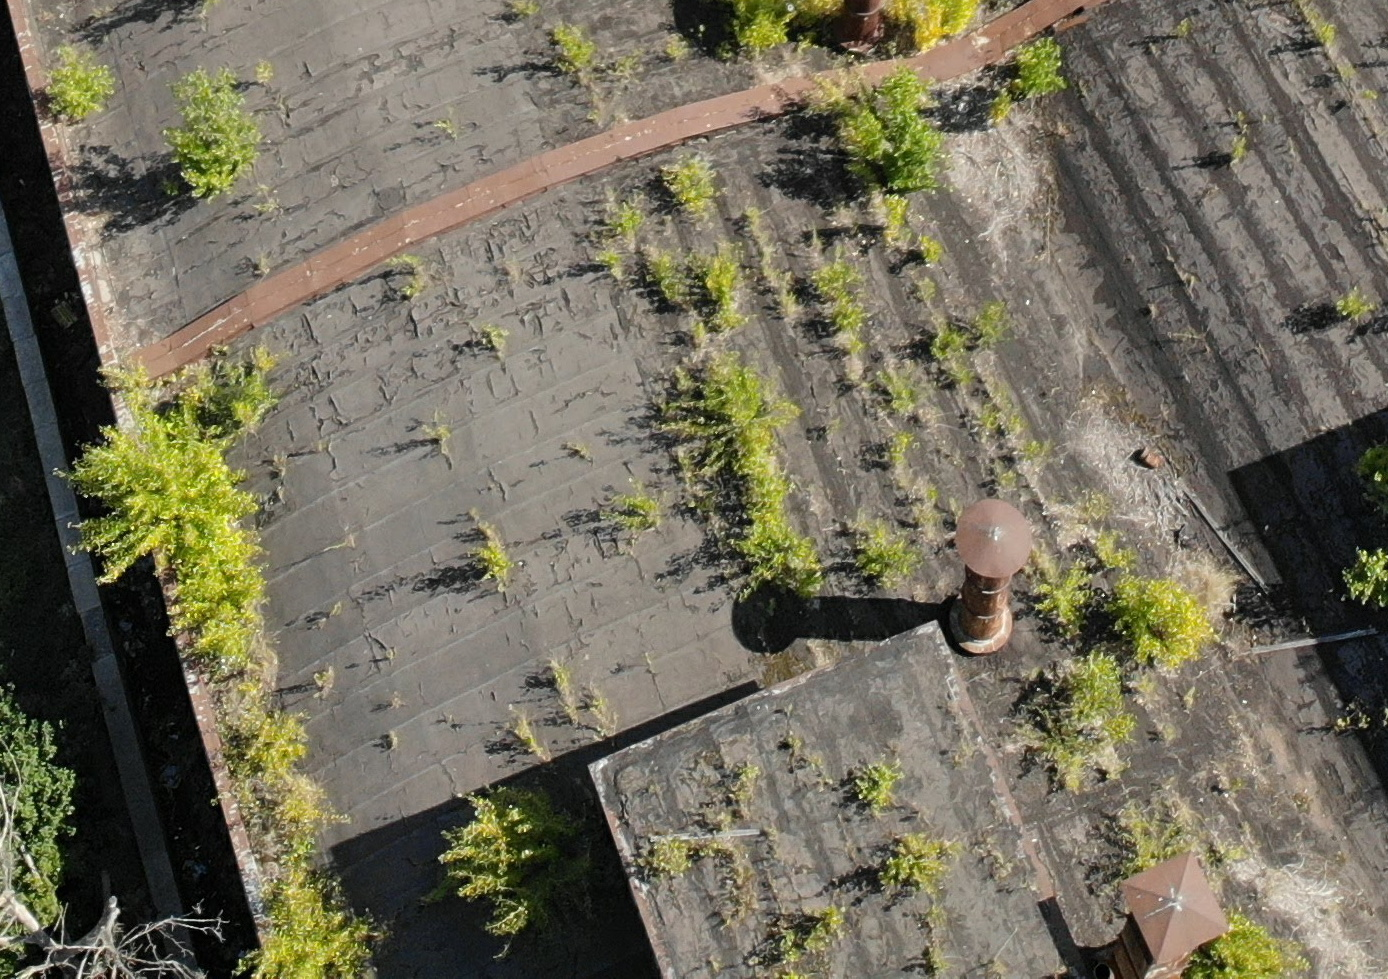tree: (79, 381, 292, 660), (818, 79, 953, 224), (653, 360, 782, 508), (162, 66, 275, 215), (696, 494, 825, 620), (1110, 568, 1243, 688), (1025, 642, 1132, 780), (1097, 804, 1205, 906), (645, 239, 749, 335), (38, 40, 120, 140), (828, 740, 917, 827), (234, 702, 318, 793), (997, 37, 1093, 114), (538, 6, 612, 102), (855, 823, 948, 894), (809, 245, 874, 339), (652, 140, 720, 219), (464, 515, 522, 606), (851, 513, 909, 593), (933, 306, 1017, 360), (1318, 291, 1374, 343)
